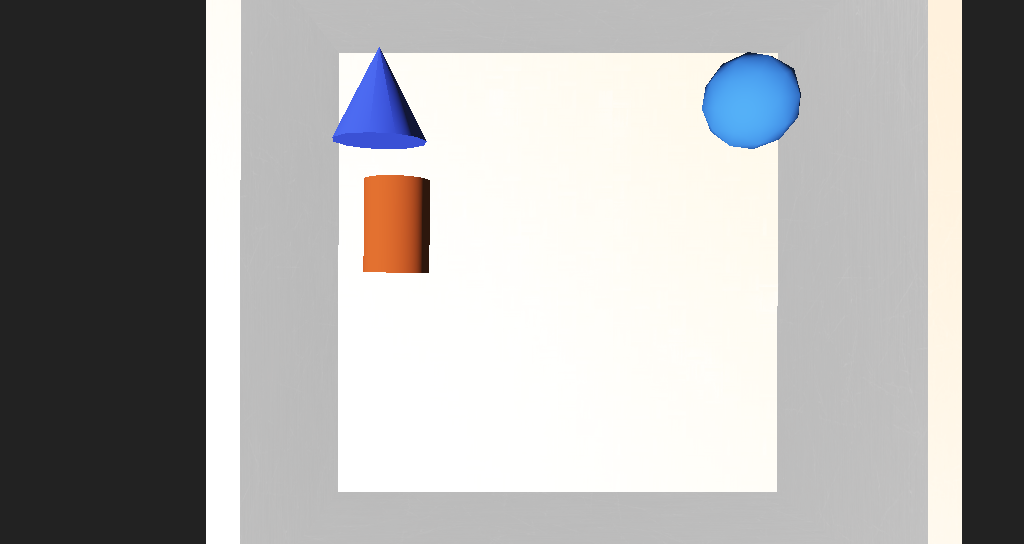cone: (374, 220, 421, 267)
cylinder: (347, 153, 421, 210)
sphere: (600, 162, 667, 210)
